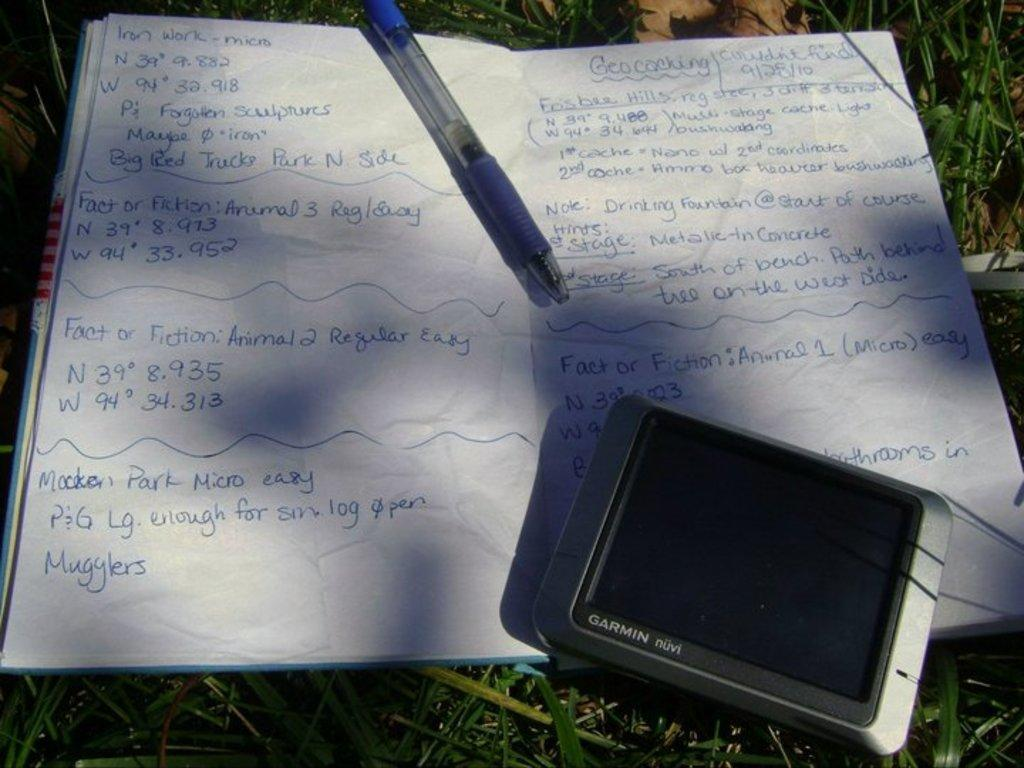pen: (324, 4, 579, 311)
